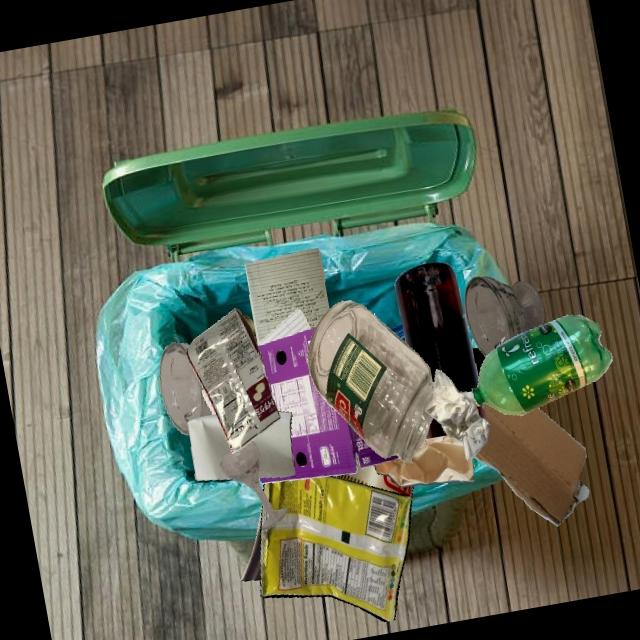cardboard: (257, 327, 398, 483), (473, 402, 589, 525), (471, 347, 485, 376)
glass: (307, 300, 434, 462), (394, 262, 478, 388), (464, 276, 545, 357), (219, 441, 288, 529), (159, 342, 213, 435), (240, 503, 262, 580), (241, 314, 257, 344)
paper: (244, 248, 329, 344), (425, 368, 489, 461), (373, 434, 473, 486), (187, 413, 231, 480), (251, 411, 295, 477), (257, 308, 310, 346)
plastic: (470, 315, 612, 415), (186, 308, 280, 453), (390, 323, 406, 343)
trash: (260, 476, 411, 622), (335, 455, 413, 496)
